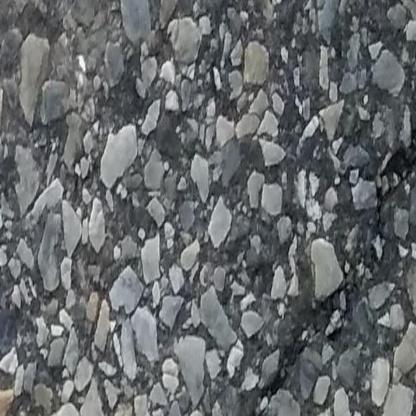Cracks: (237, 121, 416, 416)
